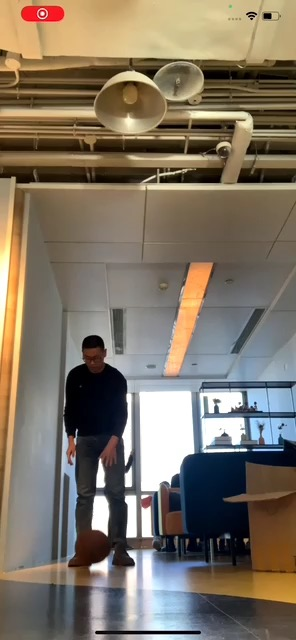ball: (72, 529, 110, 563)
